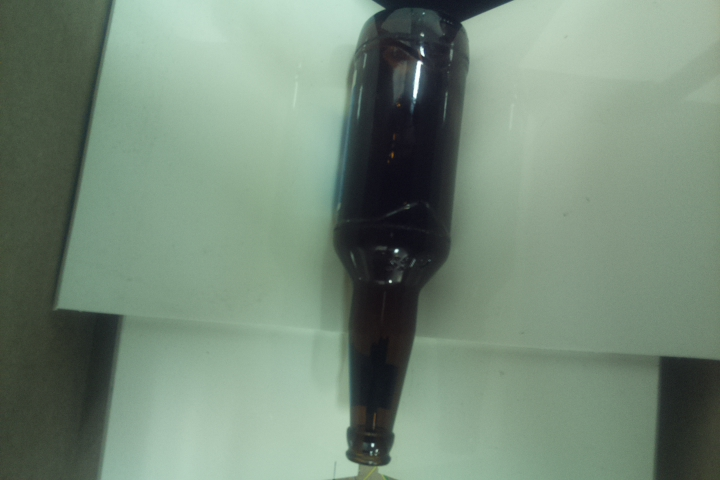makju: (328, 1, 472, 469)
